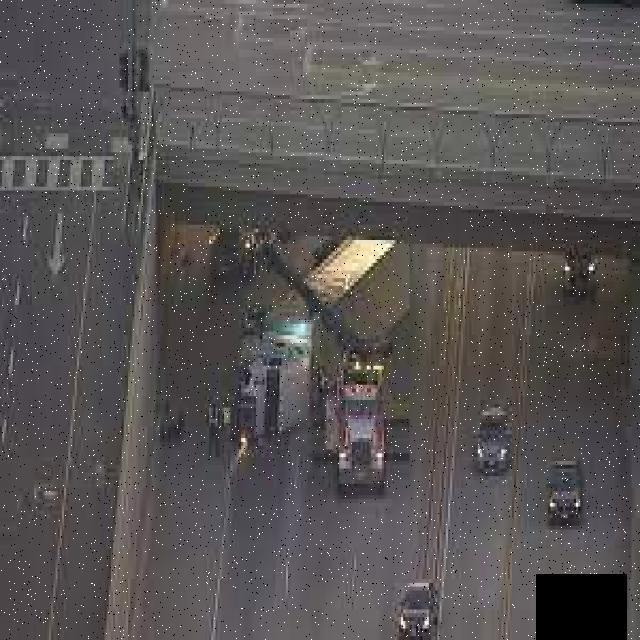single accident: (203, 229, 421, 501)
